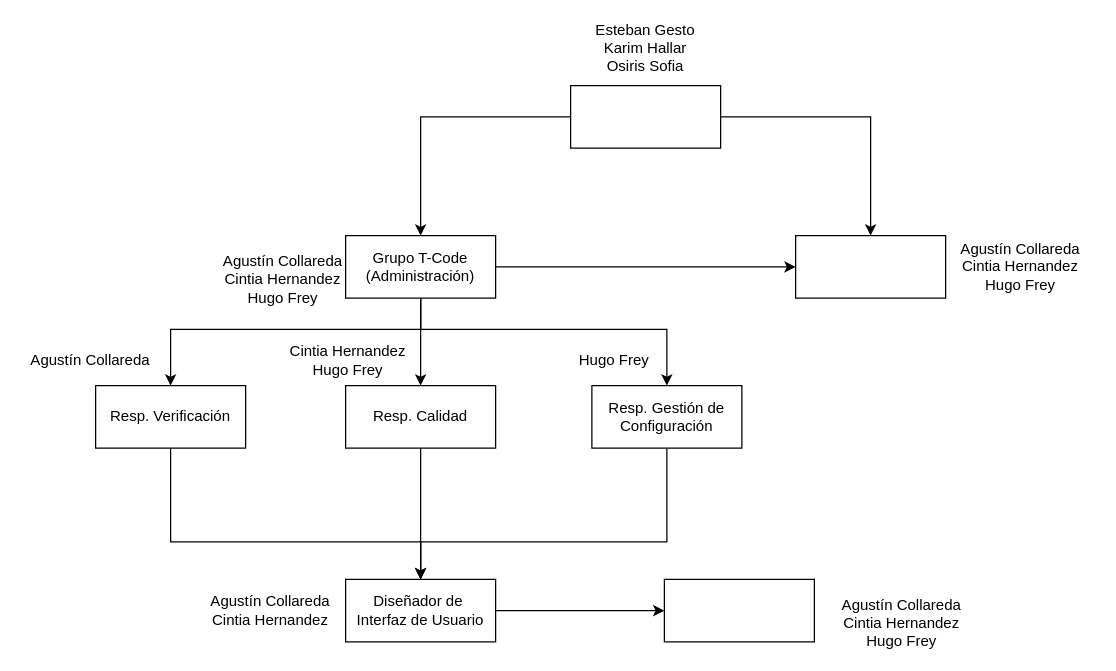
Image size: 1116x671. Some labels were removed from this diagram. Here are the shapes that lost their labels. From the top down, the centre of each, then its label:
At point (645, 116): "Clientes".
At point (870, 266): "Documentador / Analista".
At point (738, 610): "Analistas / Implementadores".
